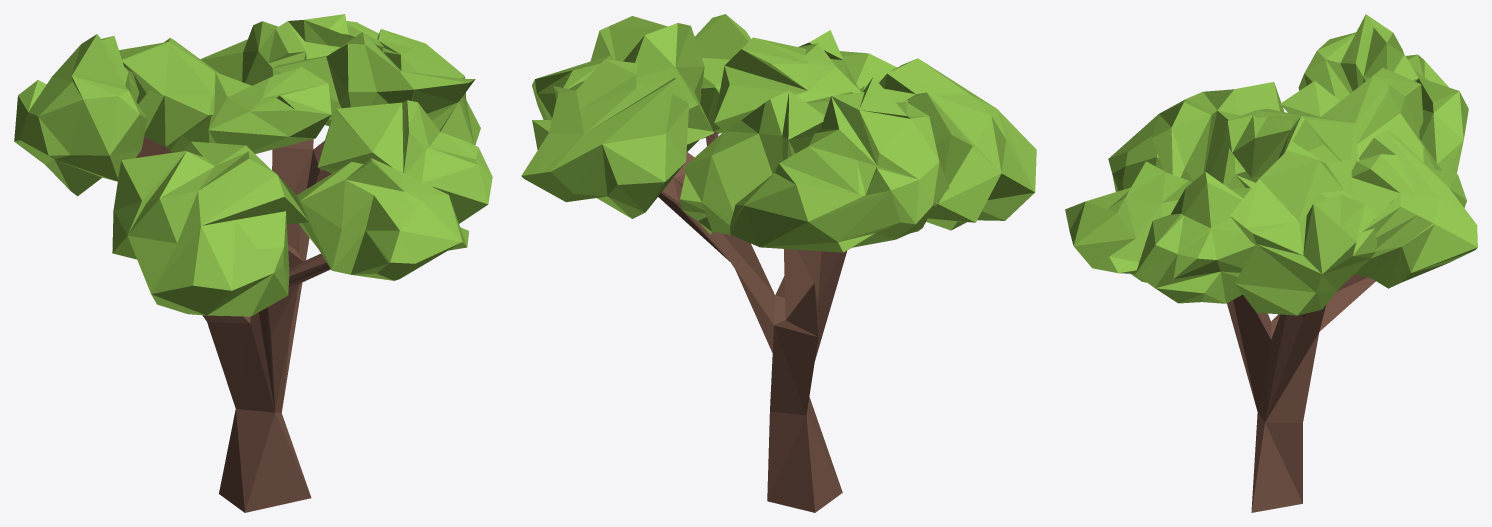
The model's file is tree.gltf.
3 views of the same model, side by side, from view 1: azimuth 30°, elevation 25°; view 2: azimuth 150°, elevation 25°; view 3: azimuth 270°, elevation 25° (orthographic). The views are drawn at different scales.
Parts seen in each view (by area): view 1: model; view 2: model; view 3: model.
Part boxes in pixels (x1=…): model: x1=14, y1=14, x2=492, y2=512; model: x1=521, y1=14, x2=1036, y2=512; model: x1=1065, y1=14, x2=1477, y2=512.
Bounding box in the file's own units: 1.65 × 1.74 × 1.52.
